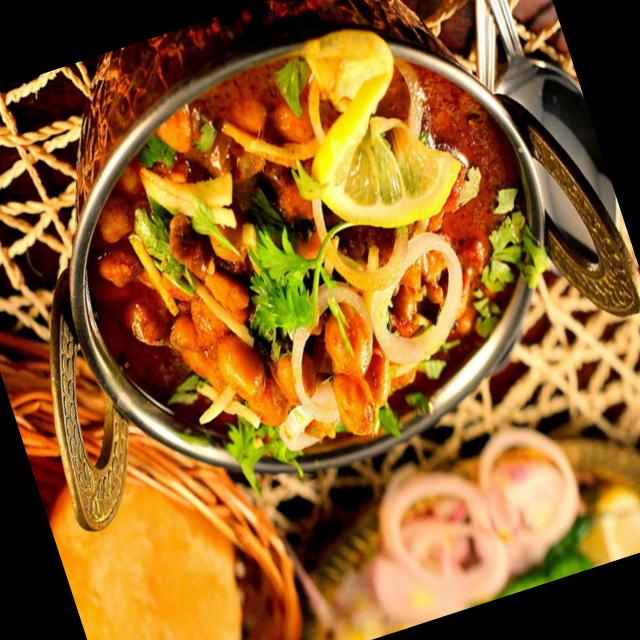Bhatura: (38, 437, 273, 640)
Chole: (37, 0, 585, 504)
